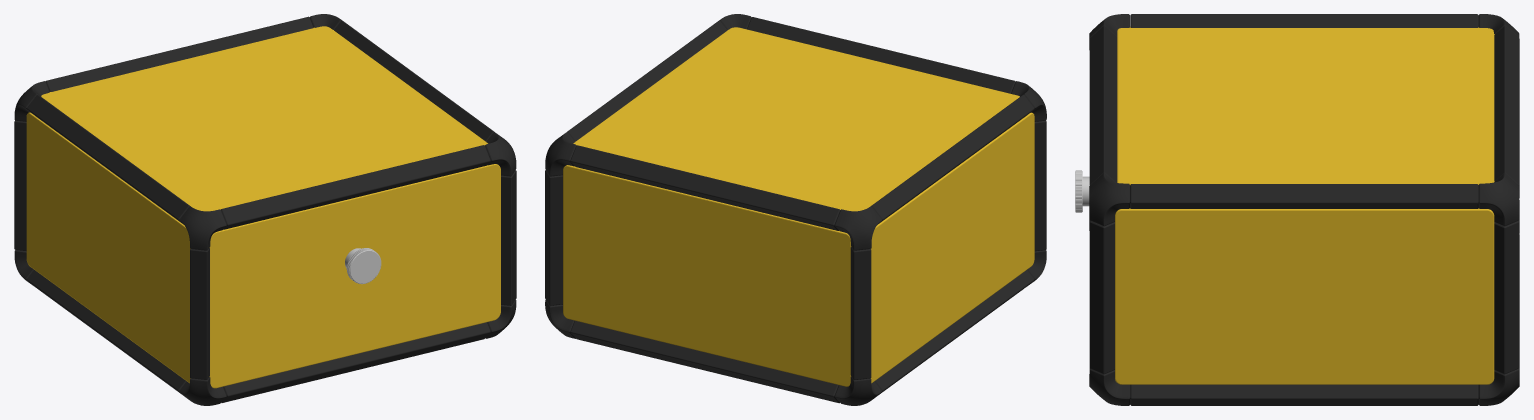
3 views of the same model, side by side, from view 1: azimuth 30°, elevation 25°; view 2: azimuth 150°, elevation 25°; view 3: azimuth 270°, elevation 25° (orthographic). The views are drawn at different scales.
Visible parts, largest first — view 1: 329x329x154; view 2: 329x329x154; view 3: 329x329x154.
Part boxes in pixels (x1,y1,x2,y2): 329x329x154: [14, 14, 516, 405]; 329x329x154: [545, 14, 1046, 405]; 329x329x154: [1075, 14, 1519, 405].
Size of the model in its own units: 0.4067 by 0.2316 by 0.4196.
